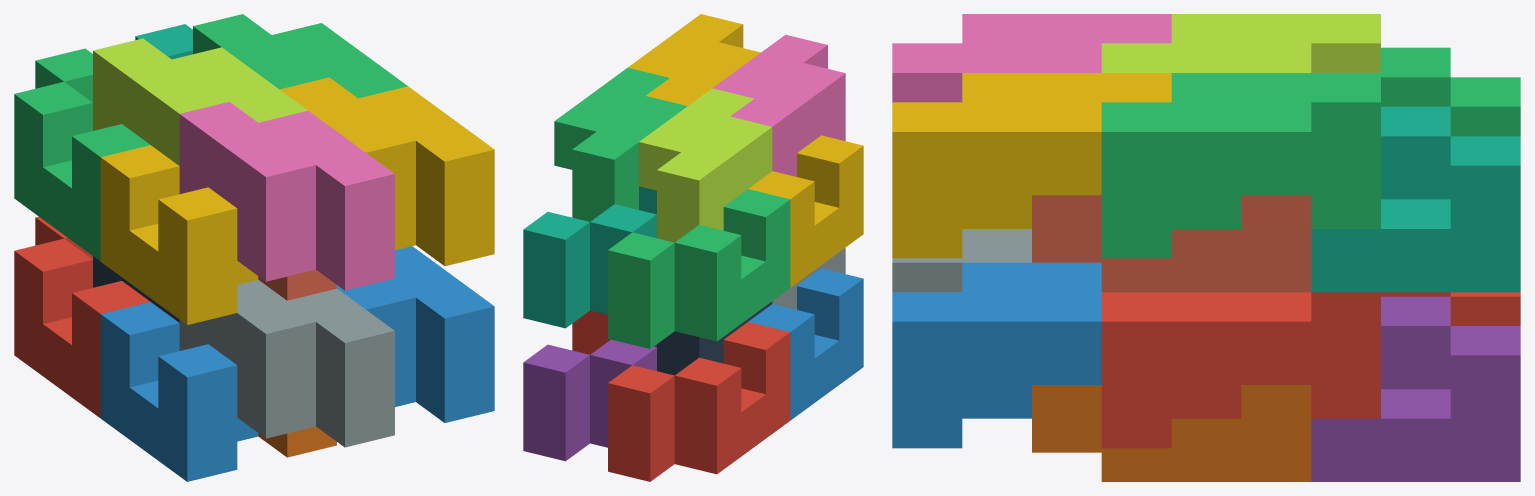
File: tiling.obj
The picture shows the model from 3 angles, left to right: view 1: azimuth 30°, elevation 25°; view 2: azimuth 150°, elevation 25°; view 3: azimuth 270°, elevation 25°; orthographic projection. The views are drawn at different scales.
Parts seen in each view (by area): view 1: copy_2_domain_4, copy_2_domain_2, copy_2_domain_8, copy_1_domain_2, copy_1_domain_4, copy_2_domain_6, copy_1_domain_3, copy_1_domain_1, copy_2_domain_3, copy_2_domain_7, copy_1_domain_6, copy_1_domain_8 (+2 smaller); view 2: copy_1_domain_3, copy_1_domain_1, copy_2_domain_3, copy_2_domain_7, copy_1_domain_7, copy_2_domain_4, copy_1_domain_5, copy_1_domain_2, copy_1_domain_4, copy_2_domain_8, copy_2_domain_1, copy_2_domain_5 (+1 smaller); view 3: copy_2_domain_7, copy_2_domain_5, copy_2_domain_8, copy_2_domain_6, copy_1_domain_7, copy_1_domain_5, copy_1_domain_8, copy_1_domain_6, copy_2_domain_4, copy_2_domain_3, copy_1_domain_3, copy_2_domain_2 (+1 smaller).
Part boxes in pixels (bbox=[...]): copy_2_domain_4: bbox=[179, 101, 394, 290]; copy_2_domain_2: bbox=[179, 279, 394, 447]; copy_2_domain_8: bbox=[280, 77, 494, 266]; copy_1_domain_2: bbox=[100, 302, 258, 481]; copy_1_domain_4: bbox=[100, 145, 258, 324]; copy_2_domain_6: bbox=[337, 246, 494, 422]; copy_1_domain_3: bbox=[14, 48, 149, 261]; copy_1_domain_1: bbox=[14, 216, 150, 418]; copy_2_domain_3: bbox=[93, 38, 307, 165]; copy_2_domain_7: bbox=[193, 14, 407, 98]; copy_1_domain_6: bbox=[258, 426, 336, 457]; copy_1_domain_8: bbox=[258, 269, 336, 300]; copy_1_domain_3: bbox=[608, 189, 790, 348]; copy_1_domain_1: bbox=[608, 322, 790, 481]; copy_2_domain_3: bbox=[639, 88, 772, 242]; copy_2_domain_7: bbox=[554, 67, 687, 221]; copy_1_domain_7: bbox=[523, 186, 656, 328]; copy_2_domain_4: bbox=[712, 34, 845, 176]; copy_1_domain_5: bbox=[523, 339, 656, 461]; copy_1_domain_2: bbox=[748, 268, 863, 420]; copy_1_domain_4: bbox=[748, 135, 863, 287]; copy_2_domain_8: bbox=[628, 14, 760, 105]; copy_2_domain_1: bbox=[657, 301, 772, 375]; copy_2_domain_5: bbox=[572, 310, 610, 354]; copy_2_domain_7: bbox=[1101, 73, 1380, 258]; copy_2_domain_5: bbox=[1101, 292, 1380, 448]; copy_2_domain_8: bbox=[892, 73, 1171, 258]; copy_2_domain_6: bbox=[892, 262, 1101, 448]; copy_1_domain_7: bbox=[1311, 106, 1520, 292]; copy_1_domain_5: bbox=[1311, 296, 1520, 481]; copy_1_domain_8: bbox=[1032, 195, 1311, 292]; copy_1_domain_6: bbox=[1032, 385, 1311, 481]; copy_2_domain_4: bbox=[892, 14, 1171, 102]; copy_2_domain_3: bbox=[1101, 14, 1380, 72]; copy_1_domain_3: bbox=[1381, 47, 1520, 136]; copy_2_domain_2: bbox=[892, 229, 1031, 292].
Bounding box in the file's own units: 5 × 6 × 9.
